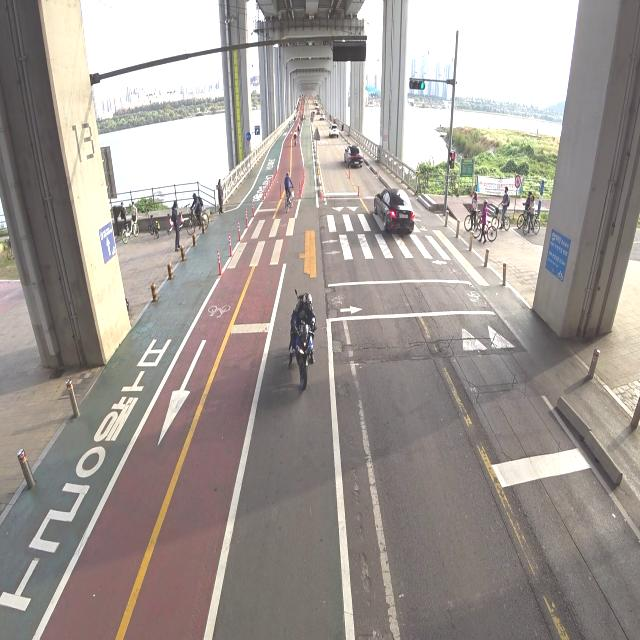Car: (370, 180, 414, 246), (342, 142, 367, 172), (328, 120, 341, 140)
Motorcycle: (286, 288, 318, 392)
